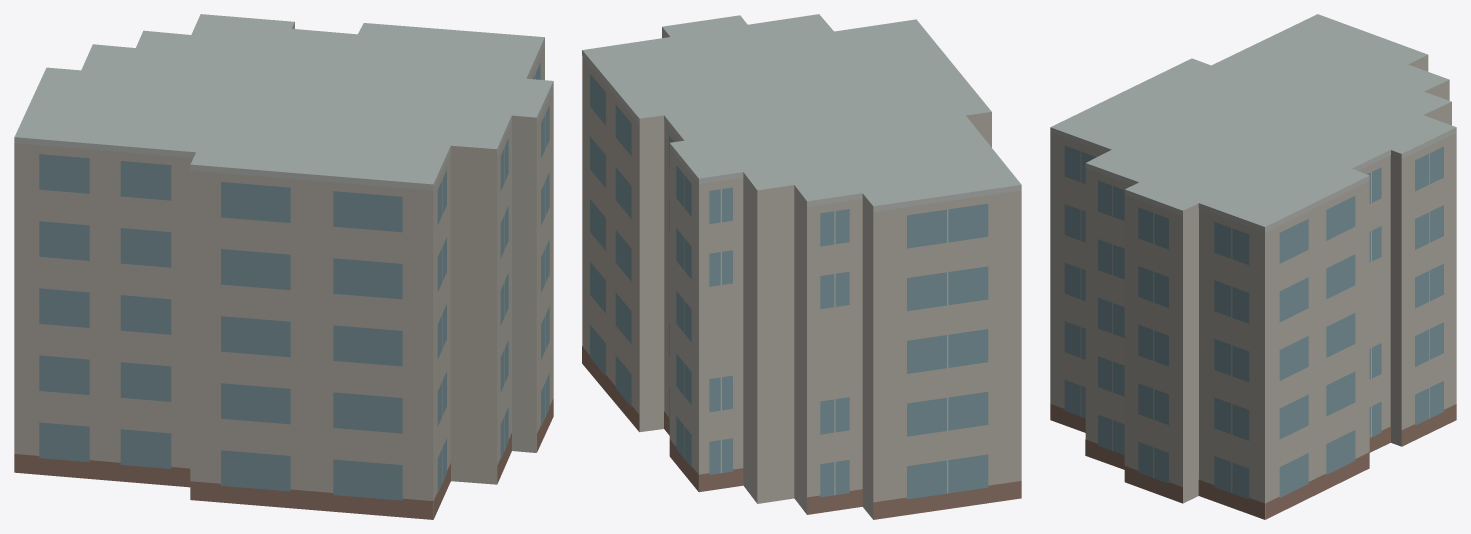
The model's file is survey-upis-32711033.glb.
The picture shows the model from 3 angles, left to right: view 1: azimuth 30°, elevation 25°; view 2: azimuth 150°, elevation 25°; view 3: azimuth 270°, elevation 25°; orthographic projection. The views are drawn at different scales.
Visible parts, largest first — view 1: survey-upis-32711033.tmp; view 2: survey-upis-32711033.tmp; view 3: survey-upis-32711033.tmp.
Part boxes in pixels (<box>): survey-upis-32711033.tmp: <box>14,14,553,519</box>; survey-upis-32711033.tmp: <box>582,14,1021,519</box>; survey-upis-32711033.tmp: <box>1050,14,1456,519</box>.
Bounding box in the file's own units: 21.08 × 13.5 × 16.99.
